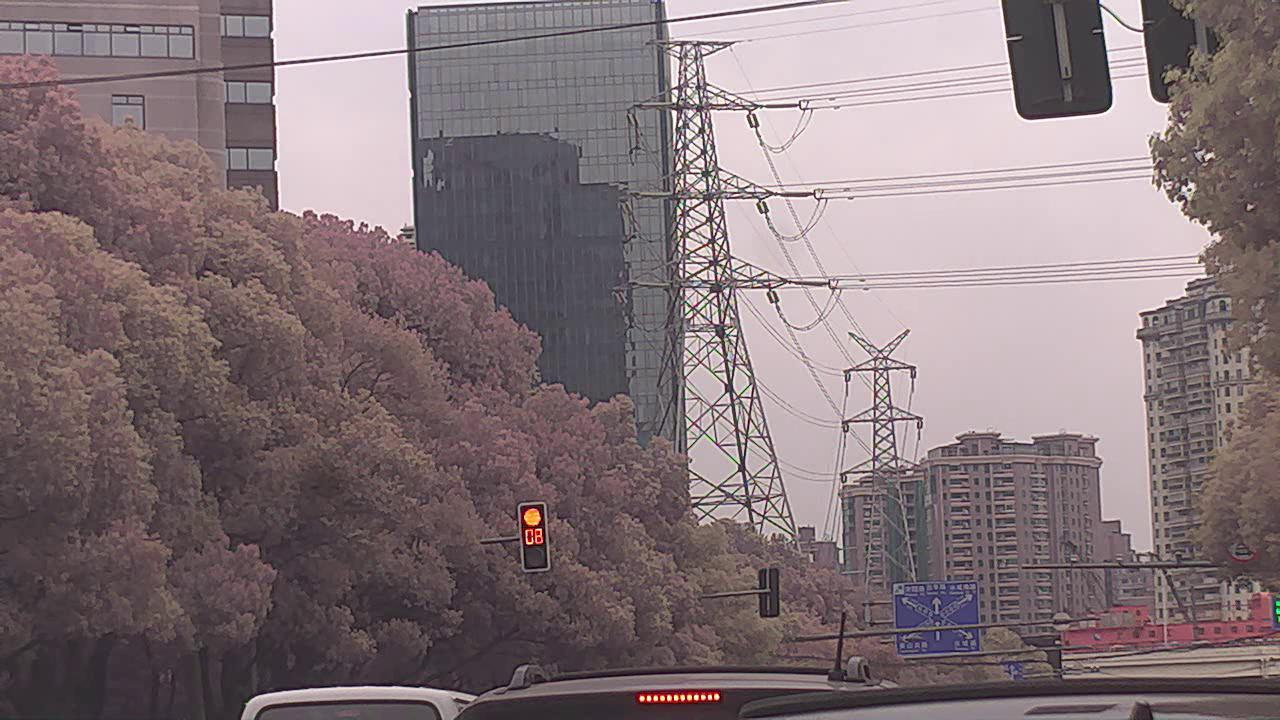traffic_light: (518, 499, 549, 573)
